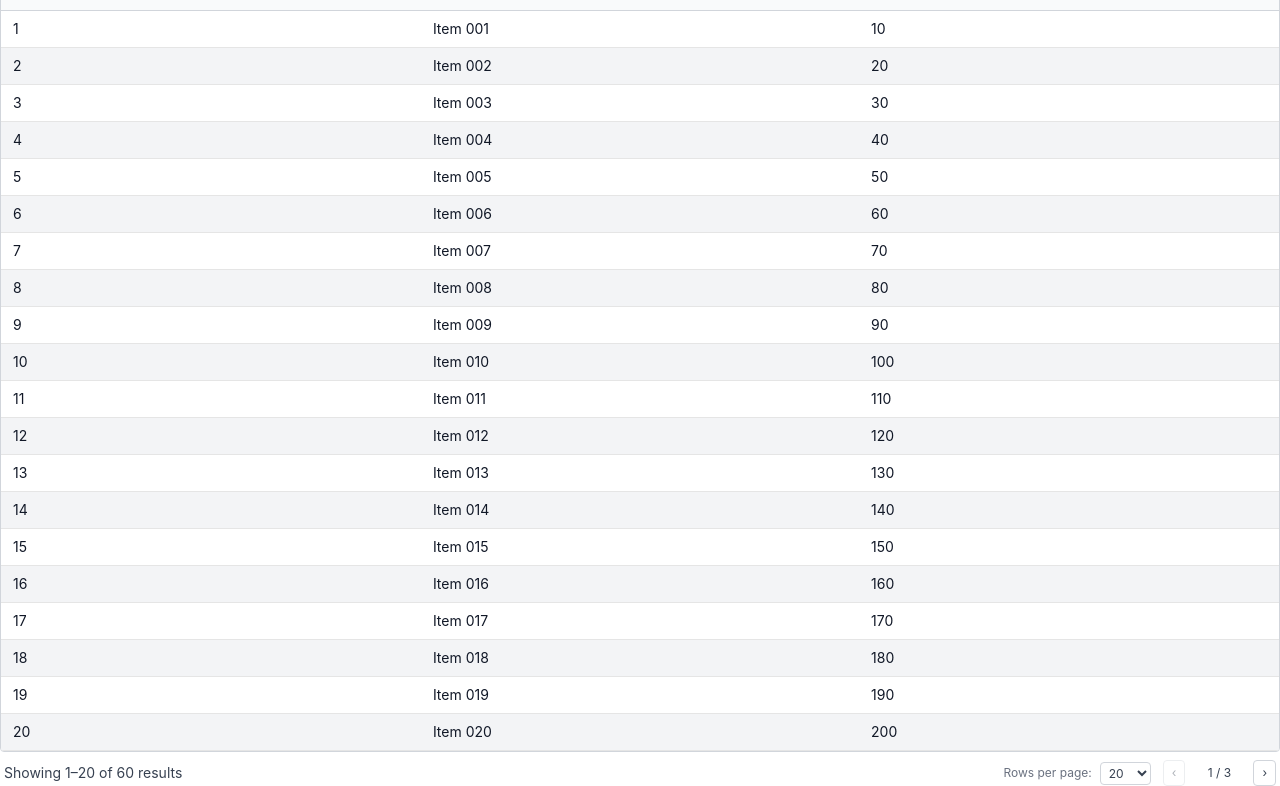
Test: DataTable — pagination › changes page size to 50
(page scrolled)
Select "50" in the dropdown at (1125, 773), box [1100,762,1151,784]
(page scrolled)
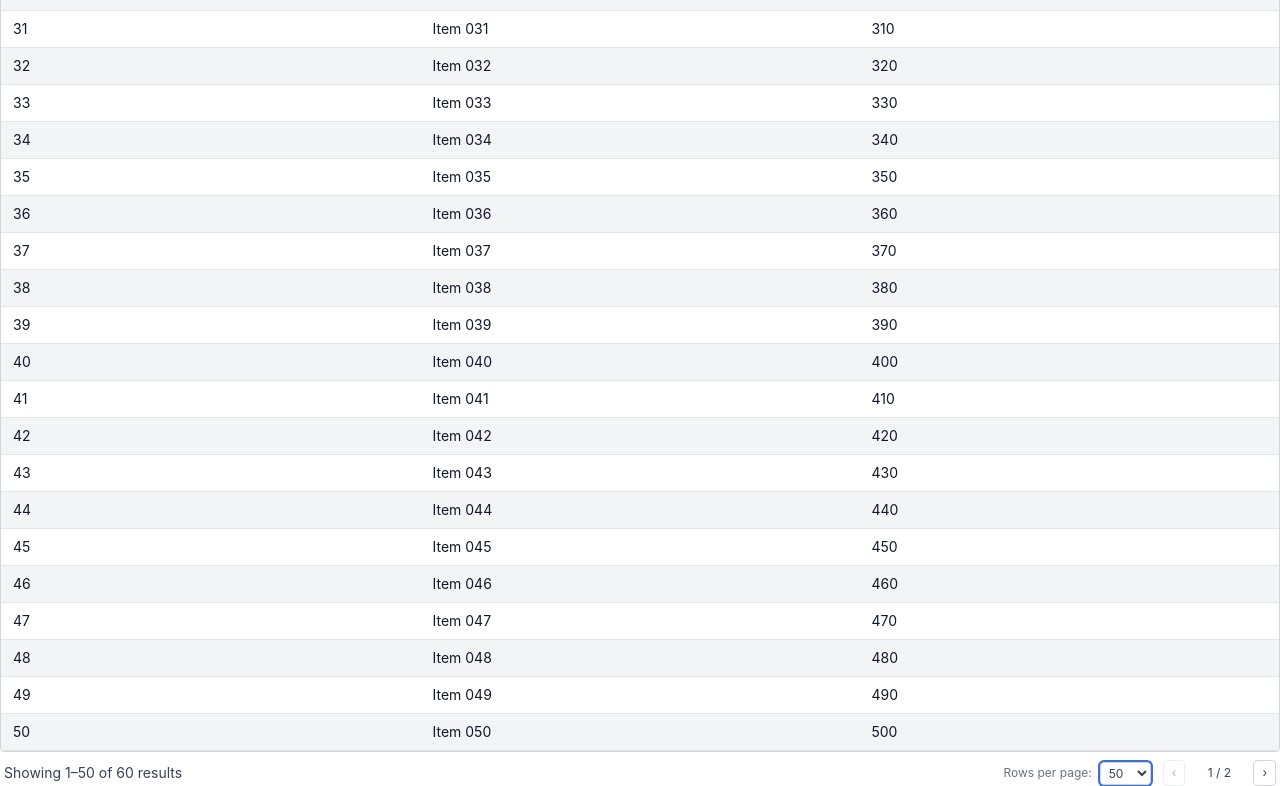
Expected: the text "Showing 1–50 of 60 results" is shown, [4,763,182,783]
Expected: the text "Item 050" is shown, [420,714,859,750]
